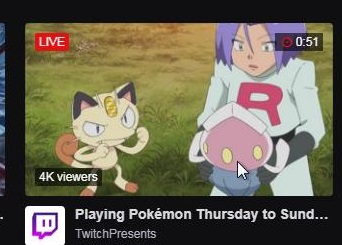cursor: (233, 157, 252, 184)
